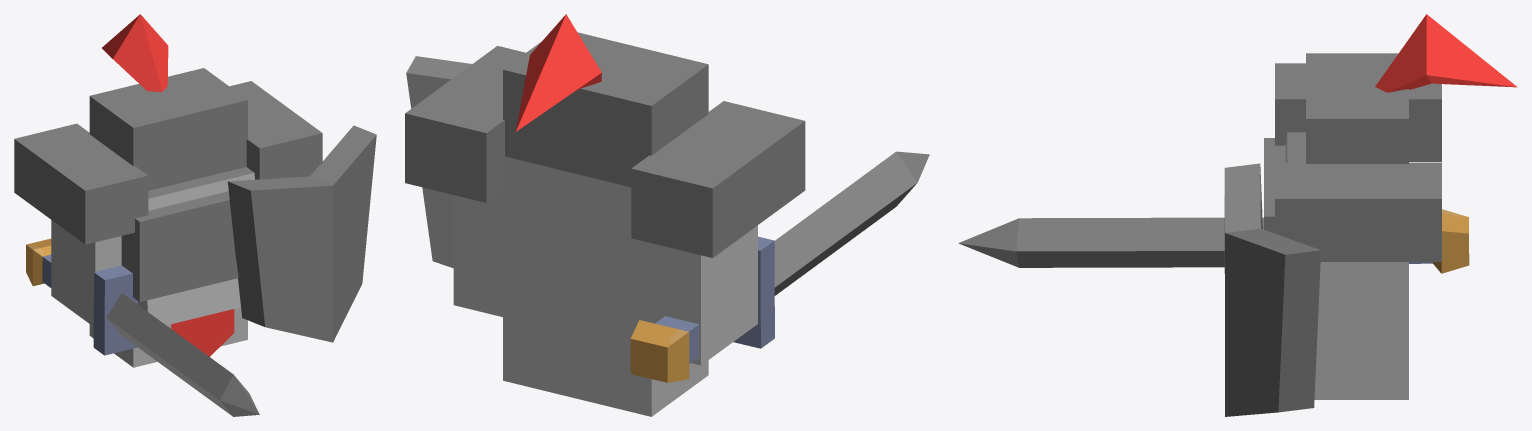
Rendered from knight.fbx.
3 views of the same model, side by side, from view 1: azimuth 30°, elevation 25°; view 2: azimuth 150°, elevation 25°; view 3: azimuth 270°, elevation 25° (orthographic). The views are drawn at different scales.
Visible parts, largest first — view 1: knight; view 2: knight; view 3: knight.
Boxes of the visible parts, x1,y1,x2,y2 form: knight: (14,14,376,416); knight: (405,14,929,416); knight: (958,14,1517,416).
Bounding box in the file's own units: 63.14 × 61.58 × 88.33.
